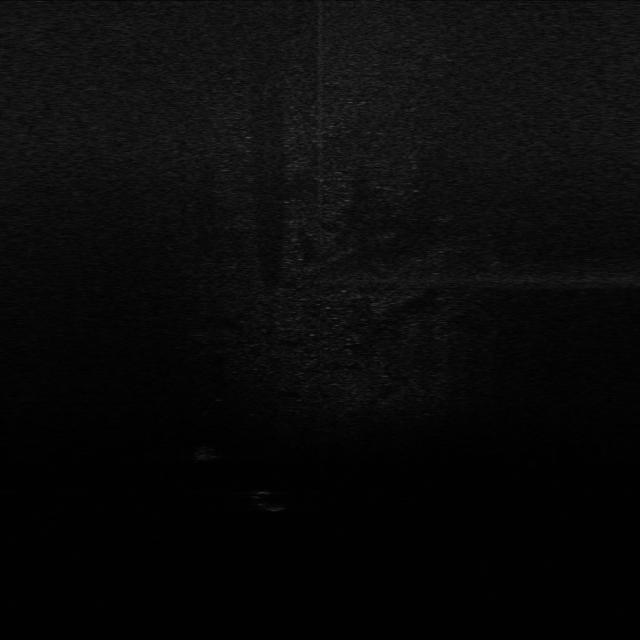circle cage: (191, 441, 228, 466)
tyre: (246, 486, 293, 514)
